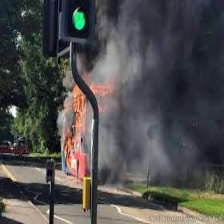smoke: (105, 13, 224, 177)
